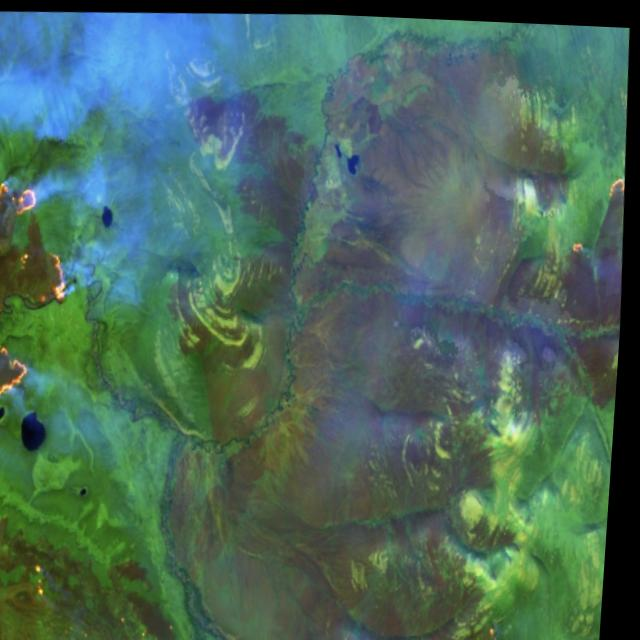fire: (0, 173, 87, 426), (567, 163, 629, 261)
